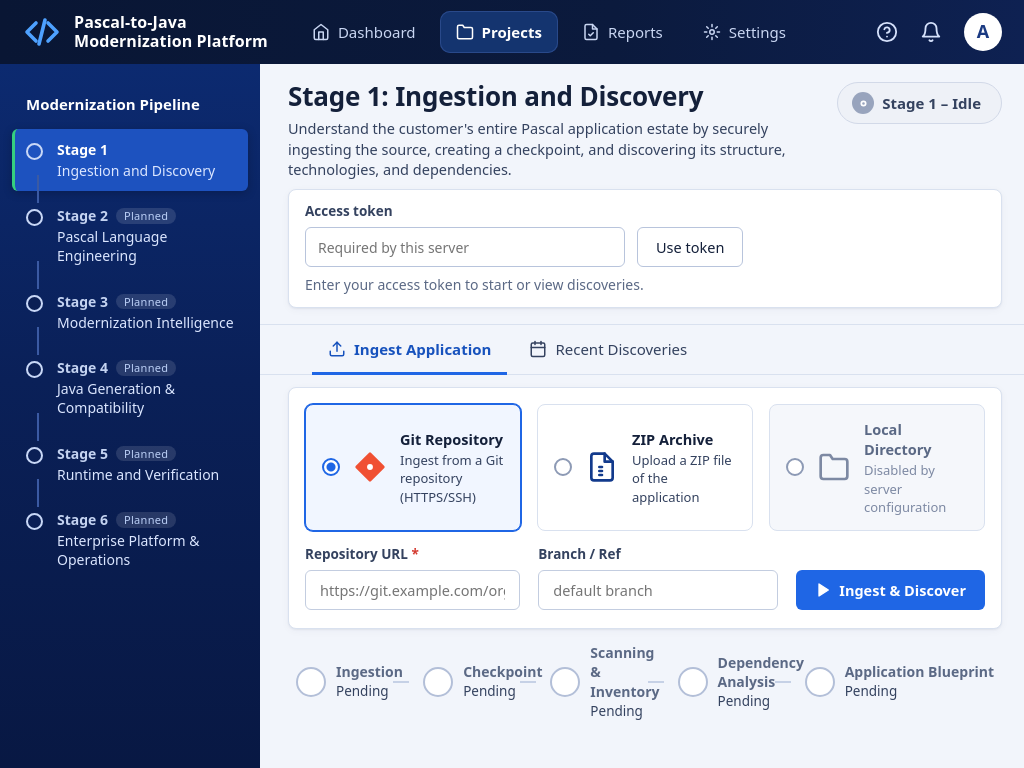
Scenario: flows through the real api module › fix 2: entering a new token restarts polling and clears the poll error
The width and height of the screenshot is (1024, 768).
Type "stale" into the password field labelled "Access token" at (465, 247), box [305, 227, 625, 267]
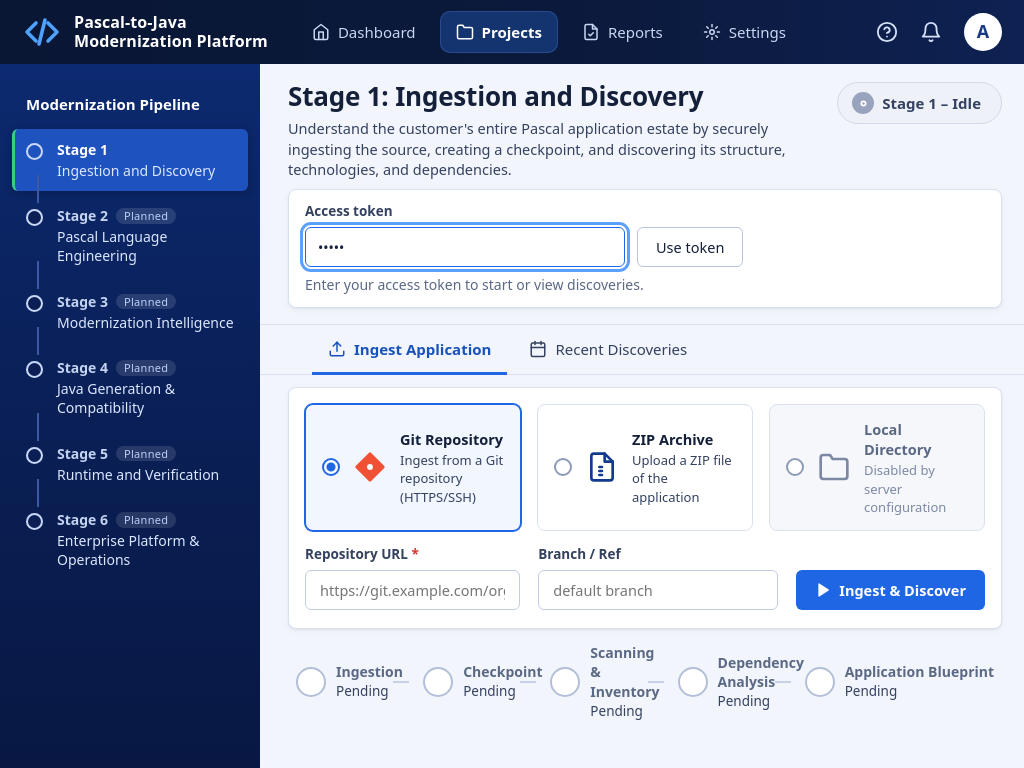
Click the button "Use token" at (690, 247), box [637, 227, 743, 267]
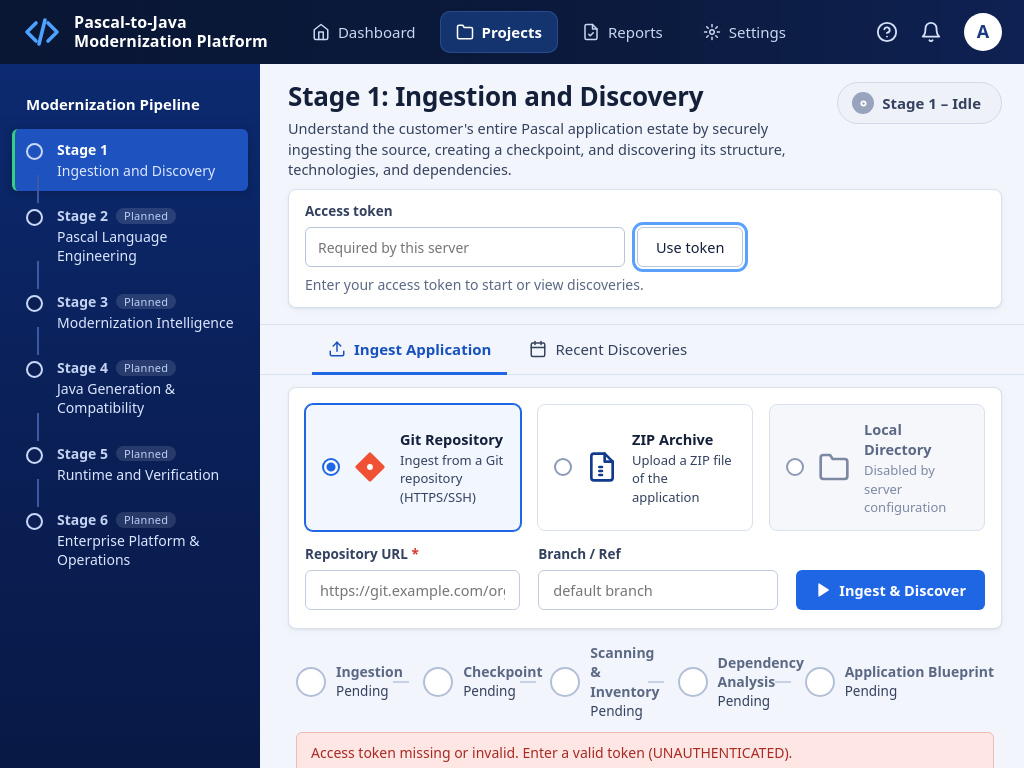
Type "fresh" into the password field labelled "Access token" at (465, 247), box [305, 227, 625, 267]
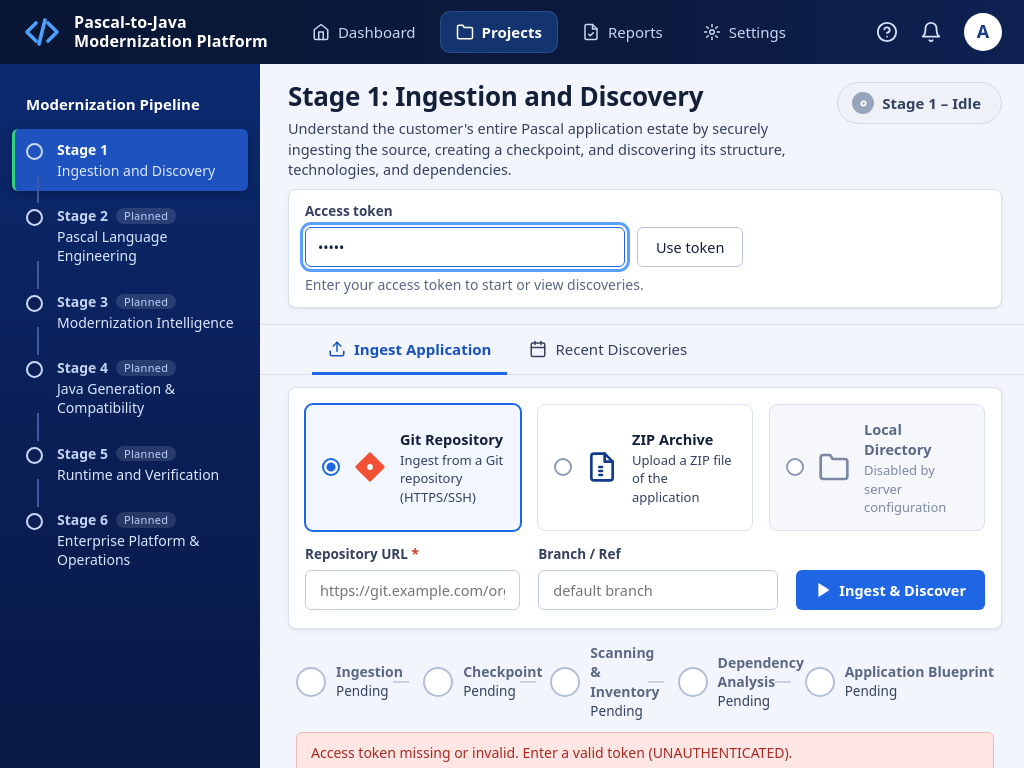
Click the button "Use token" at (690, 247), box [637, 227, 743, 267]
(page scrolled)
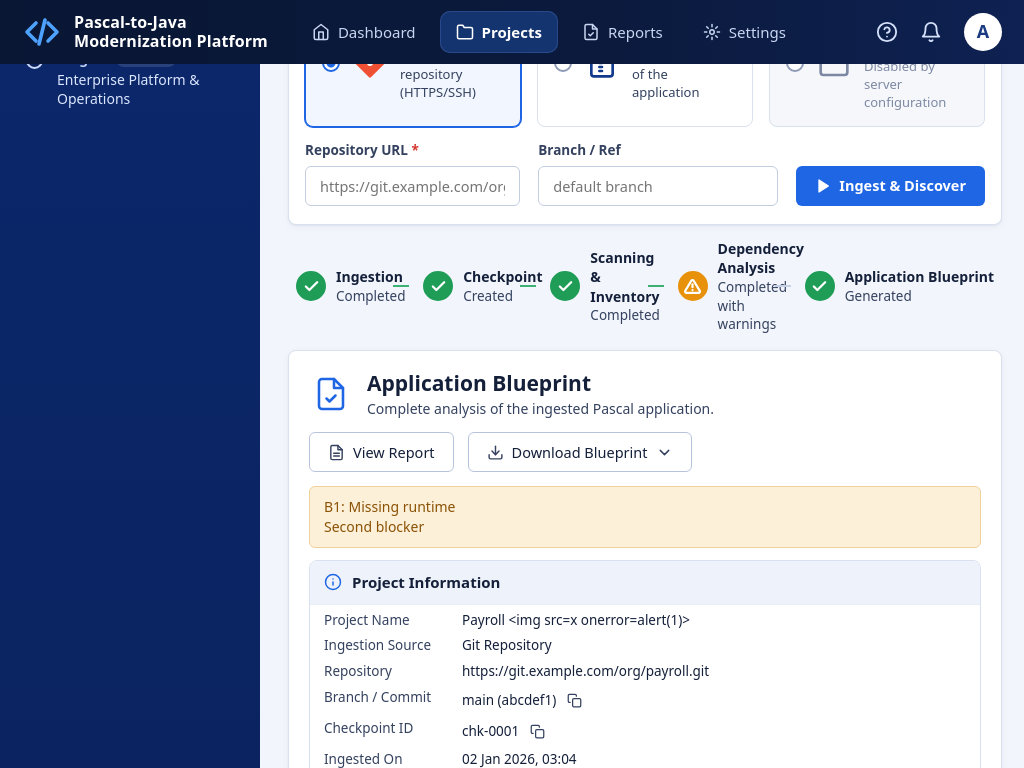
Expected: the heading "Application Blueprint" is shown, [367, 369, 591, 397]
